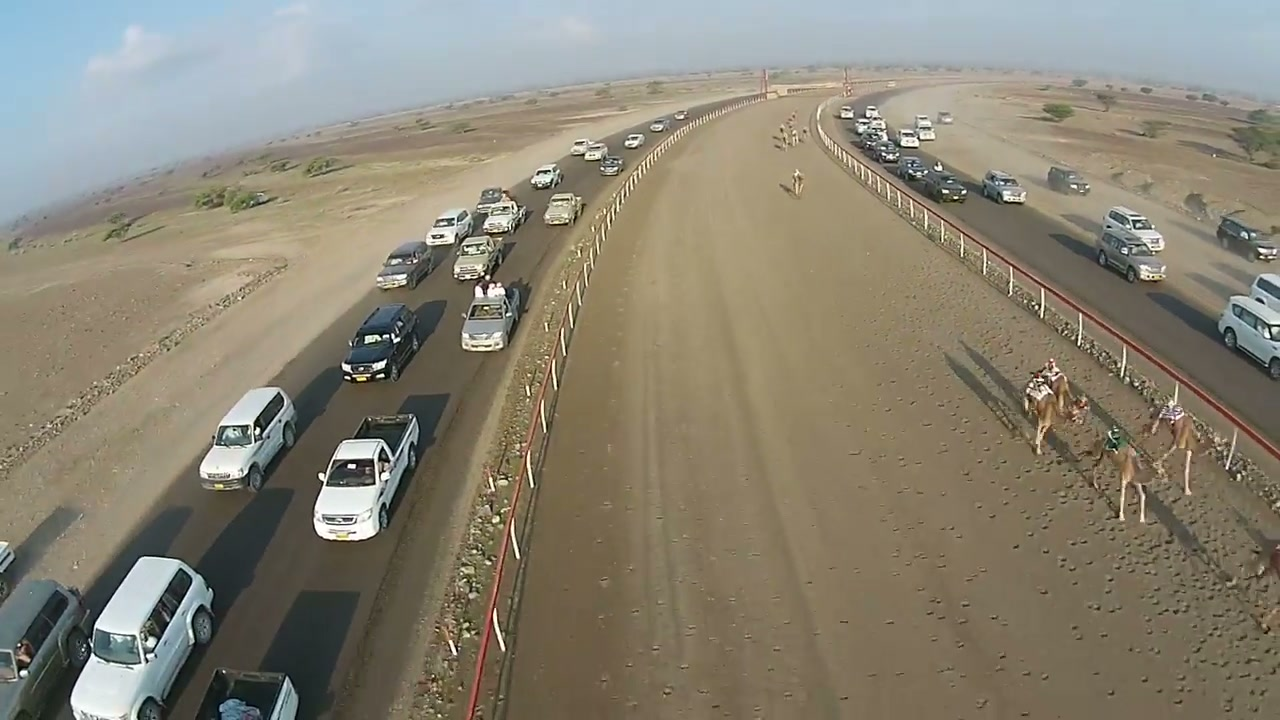animal_footprint: (973, 444, 1279, 706)
